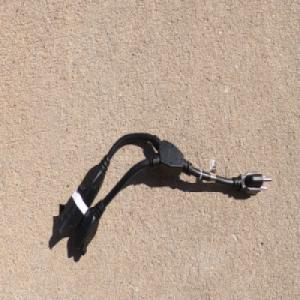Wire: (56, 130, 271, 256)
